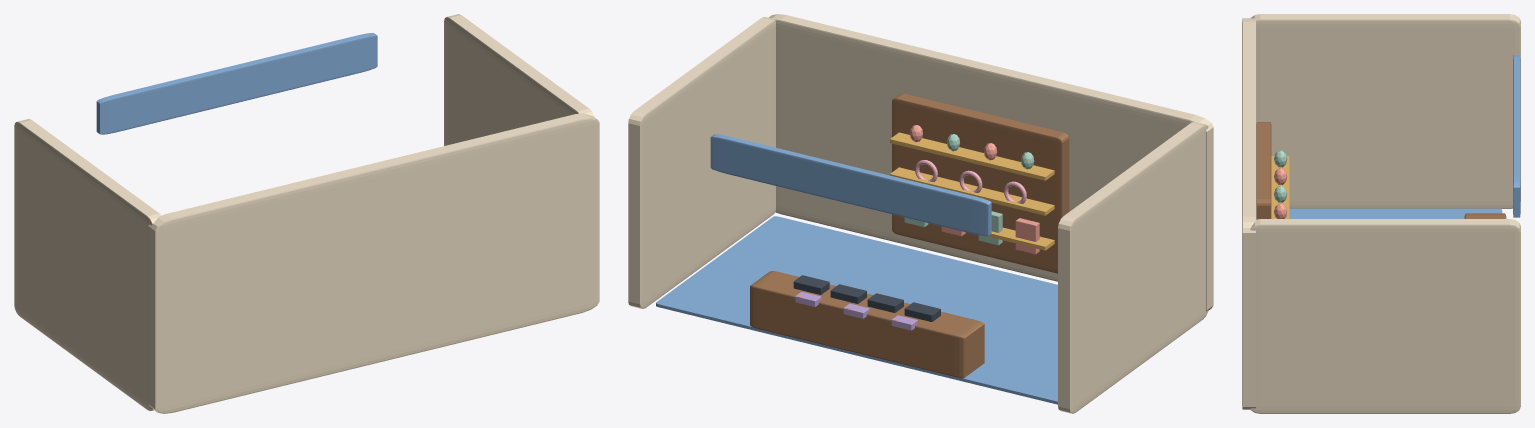
File: pixel_pantry.glb
The picture shows the model from 3 angles, left to right: view 1: azimuth 30°, elevation 25°; view 2: azimuth 150°, elevation 25°; view 3: azimuth 270°, elevation 25°; orthographic projection. The views are drawn at different scales.
Parts seen in each view (by area): view 1: pixel_pantry_back, pixel_pantry_left, pixel_pantry_sign, pixel_pantry_right; view 2: pixel_pantry_back, pixel_pantry_left, pixel_pantry_right, pixel_pantry_floor, pixel_panel, pixel_counter, pixel_pantry_sign, pixel_shelf_3.0, pixel_shelf_2.1, Game_Box_1, pixel_shelf_1.2; view 3: pixel_pantry_right, pixel_pantry_left, pixel_pantry_back, pixel_pantry_floor, pixel_panel, pixel_pantry_sign, pixel_shelf_3.0.
Boxes of the visible parts, box(x1,y1,x2,y2) form: pixel_pantry_back: box(148, 113, 599, 413); pixel_pantry_left: box(14, 119, 160, 410); pixel_pantry_sign: box(96, 33, 377, 134); pixel_pantry_right: box(444, 14, 594, 145); pixel_pantry_back: box(769, 14, 1213, 311); pixel_pantry_left: box(1058, 122, 1208, 413); pixel_pantry_right: box(628, 17, 775, 308); pixel_pantry_floor: box(656, 216, 1057, 404); pixel_panel: box(892, 93, 1069, 273); pixel_counter: box(750, 271, 984, 378); pixel_pantry_sign: box(710, 134, 991, 235); pixel_shelf_3.0: box(890, 132, 1054, 180); pixel_shelf_2.1: box(890, 167, 1054, 215); Game_Box_1: box(1015, 218, 1039, 254); pixel_shelf_1.2: box(986, 227, 1054, 250); pixel_pantry_right: box(1250, 219, 1520, 413); pixel_pantry_left: box(1251, 14, 1520, 208); pixel_pantry_back: box(1242, 18, 1256, 409); pixel_pantry_floor: box(1289, 208, 1502, 218); pixel_panel: box(1256, 122, 1271, 219); pixel_pantry_sign: box(1513, 55, 1520, 217); pixel_shelf_3.0: box(1271, 156, 1289, 218).
Size of the model in its own units: 12 by 5 by 6.67.
